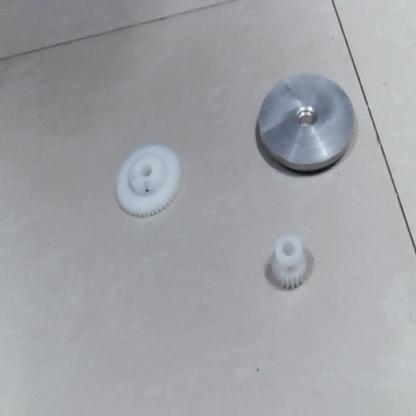FOD: (249, 70, 364, 180), (108, 143, 191, 222), (265, 230, 314, 290)
